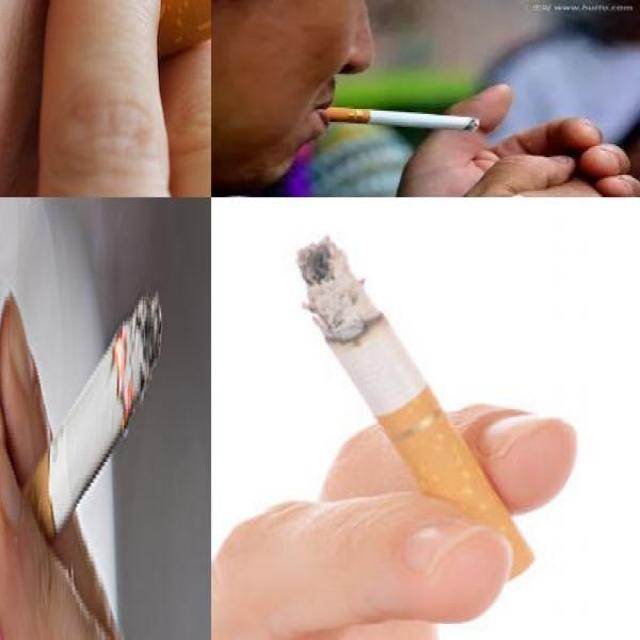cigarette: (295, 233, 534, 585), (0, 287, 164, 582), (76, 0, 210, 85), (319, 106, 481, 132)
